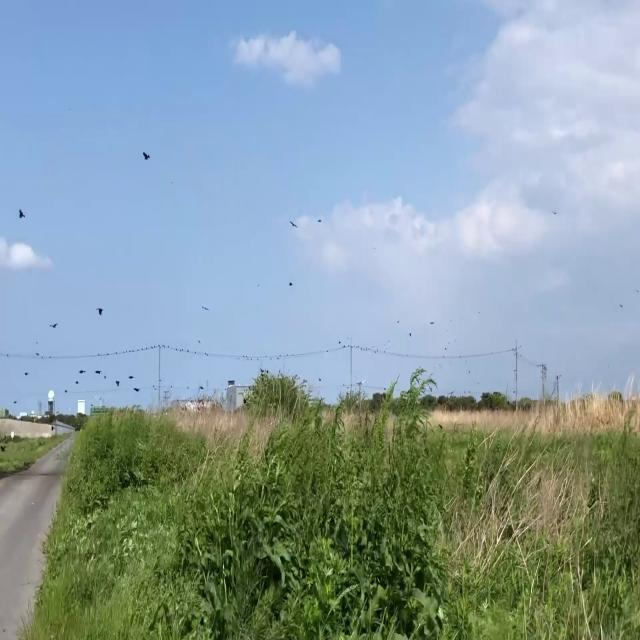bird: (142, 146, 150, 166), (131, 377, 140, 394), (18, 204, 26, 223), (51, 316, 58, 331), (290, 216, 297, 231), (95, 365, 101, 379), (98, 302, 103, 318), (318, 214, 322, 227)
